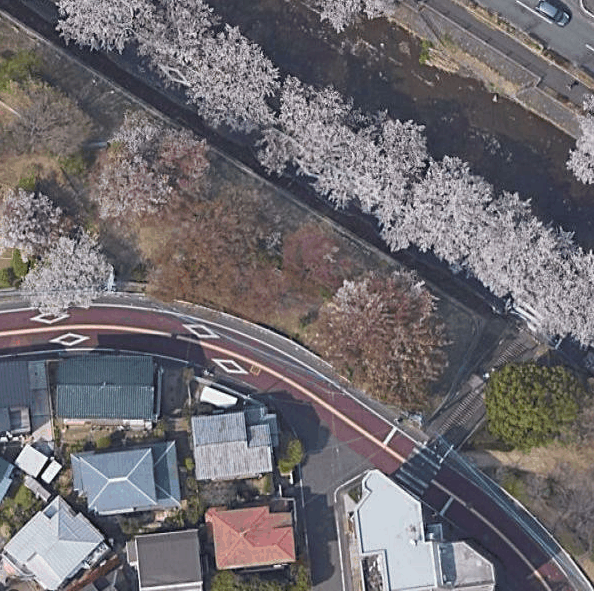flatroof: (339, 470, 454, 590)
